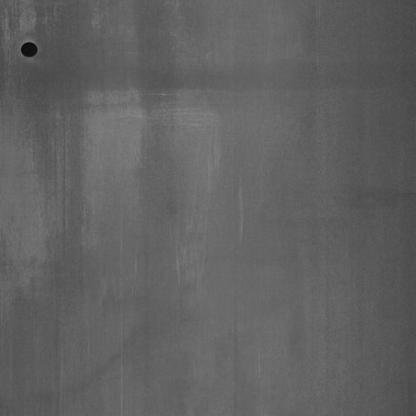punching_hole: (17, 38, 40, 62)
